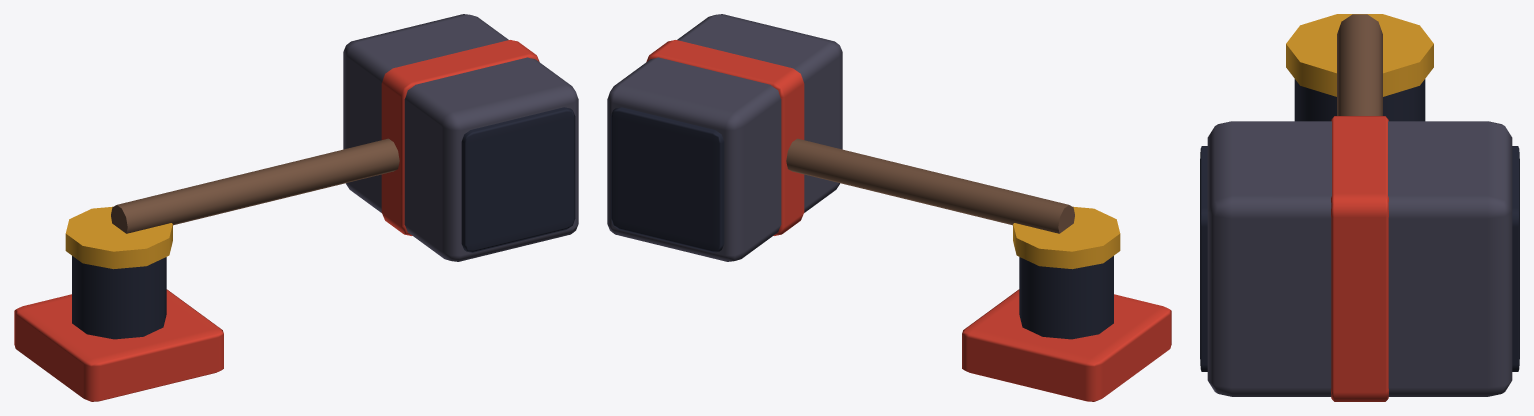
Rendered from hammer.glb.
3 renders of one model, left to right at view 1: azimuth 30°, elevation 25°; view 2: azimuth 150°, elevation 25°; view 3: azimuth 270°, elevation 25°, orthographic. The views are drawn at different scales.
Visible parts, largest first — view 1: sweep, hammer; view 2: sweep, hammer; view 3: sweep, hammer.
Boxes of the visible parts, <box> form: sweep: <box>111,14,578,261</box>; hammer: <box>14,206,223,401</box>; sweep: <box>607,14,1074,261</box>; hammer: <box>962,206,1171,401</box>; sweep: <box>1200,14,1519,401</box>; hammer: <box>1286,14,1433,121</box>.
Bounding box in the file's own units: 3.45 × 1.48 × 1.47.
